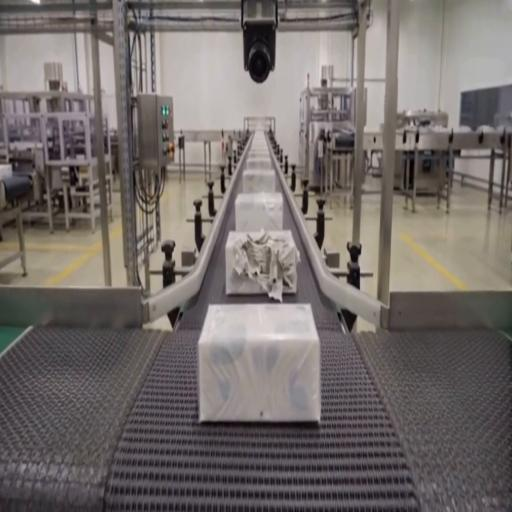defective: (200, 302, 320, 424), (225, 228, 300, 296)
good: (234, 191, 284, 233), (242, 168, 276, 194), (244, 156, 274, 176), (246, 132, 272, 154)
